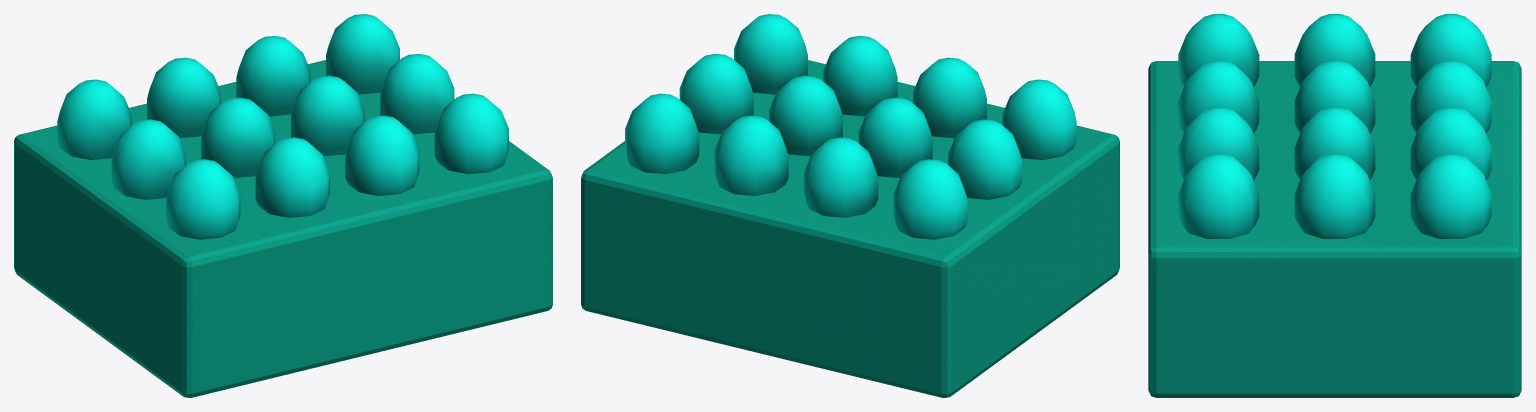
File: eggs.glb
3 views of the same model, side by side, from view 1: azimuth 30°, elevation 25°; view 2: azimuth 150°, elevation 25°; view 3: azimuth 270°, elevation 25° (orthographic). The views are drawn at different scales.
Visible parts, largest first — view 1: eggs; view 2: eggs; view 3: eggs.
Boxes of the visible parts, x1,y1,x2,y2 form: eggs: (14,14,552,397); eggs: (581,14,1119,397); eggs: (1148,14,1521,397).
Size of the model in its own units: 0.55 by 0.29 by 0.45.
Materials: 1 (1 with a texture image).
